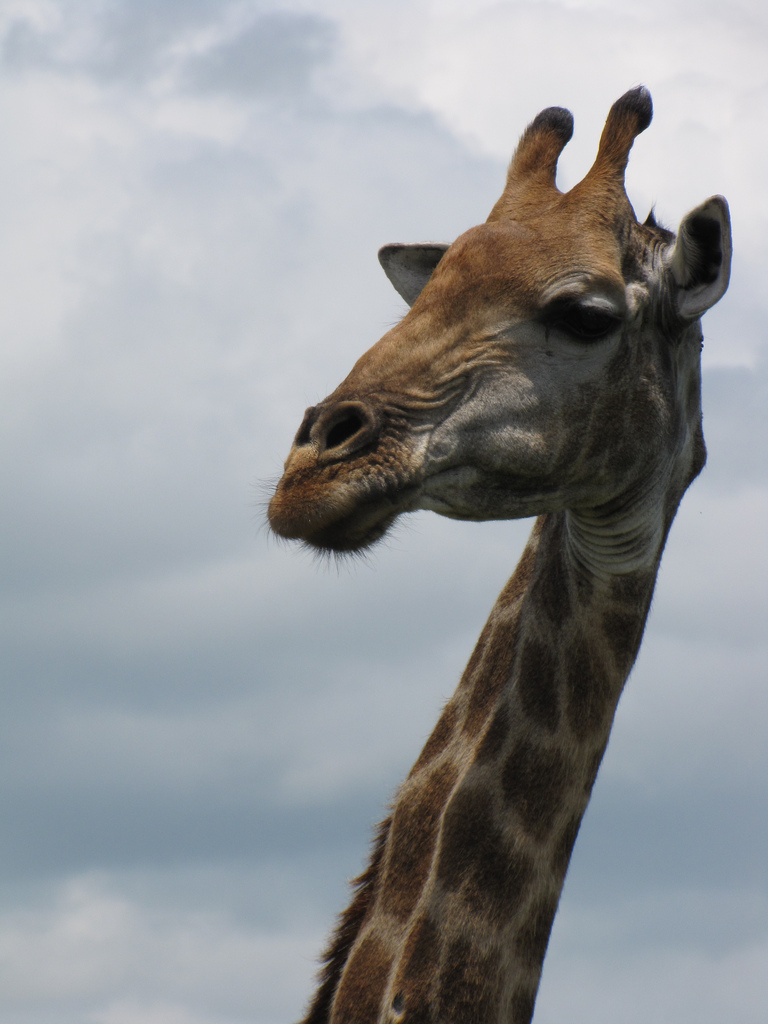giraffe: (215, 92, 768, 1012)
